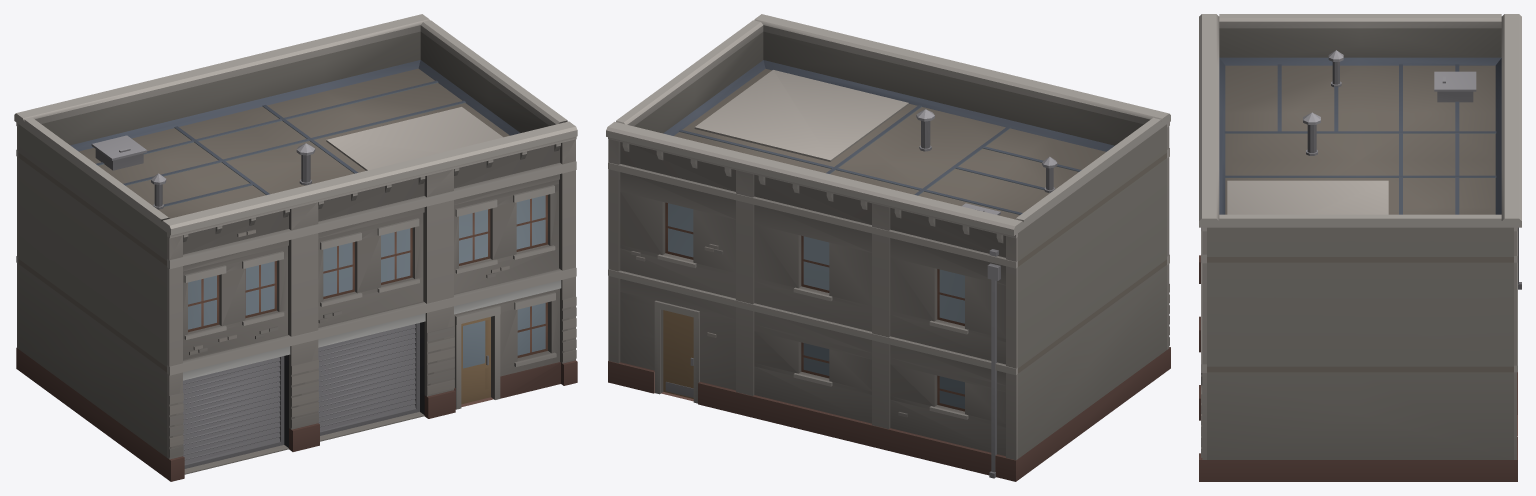
Rendered from repair.glb.
3 renders of one model, left to right at view 1: azimuth 30°, elevation 25°; view 2: azimuth 150°, elevation 25°; view 3: azimuth 270°, elevation 25°, orthographic. The views are drawn at different scales.
Visible parts, largest first — view 1: repair; view 2: repair; view 3: repair.
Boxes of the visible parts, x1,y1,x2,y2 form: repair: [14, 14, 577, 481]; repair: [606, 14, 1170, 481]; repair: [1199, 14, 1521, 481].
Bounding box in the file's own units: 12 × 7.2 × 8.
